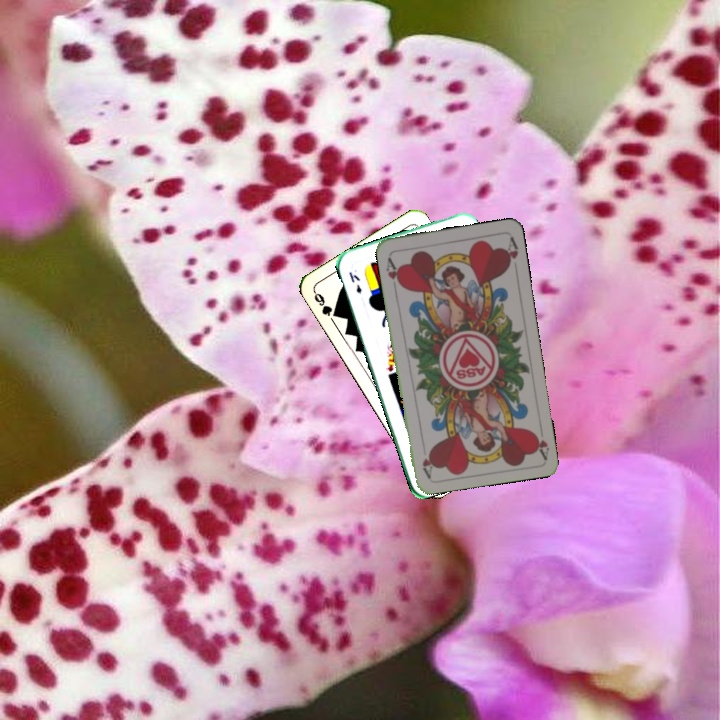EK: (345, 268, 364, 296)
G9: (310, 287, 342, 320)
HA: (529, 420, 552, 460), (382, 253, 405, 292)
